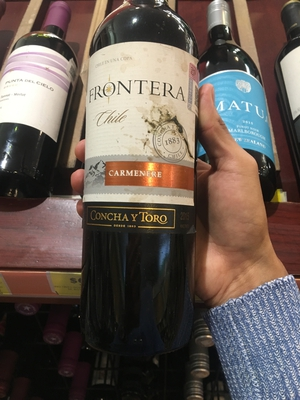frontera carmenere: (79, 6, 217, 377)
